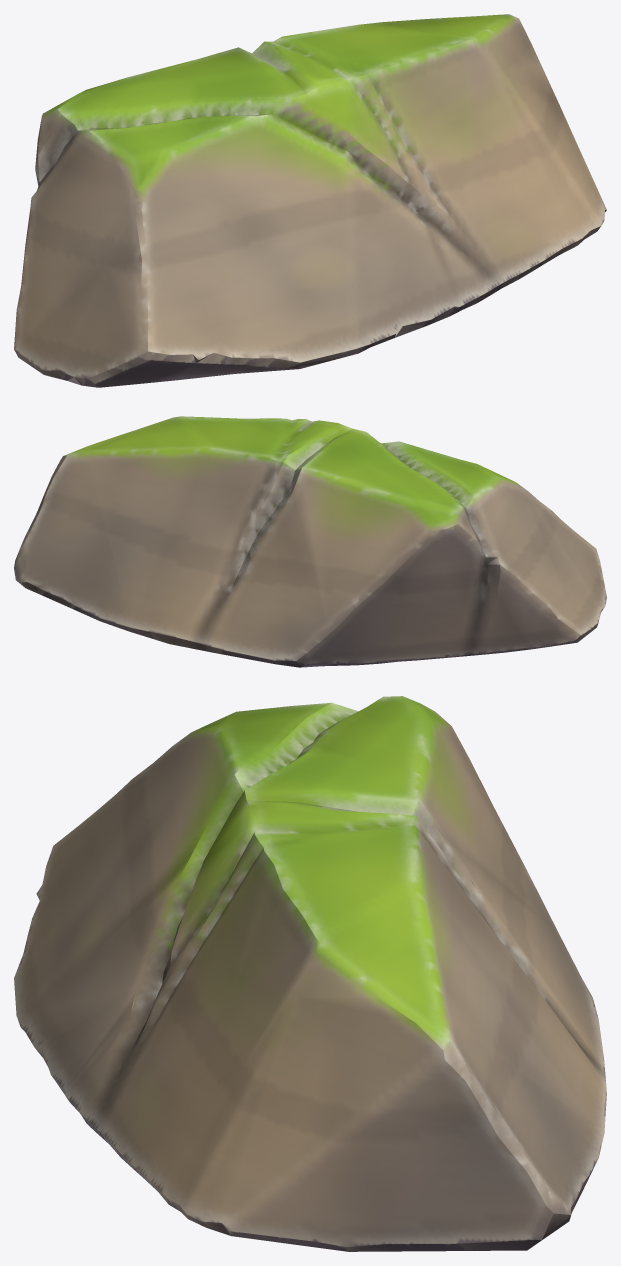
Rendered from rock_c.glb.
3 renders of one model, top to bottom at view 1: azimuth 30°, elevation 25°; view 2: azimuth 150°, elevation 25°; view 3: azimuth 270°, elevation 25°, orthographic. The views are drawn at different scales.
Parts seen in each view (by area): view 1: rock_c; view 2: rock_c; view 3: rock_c.
Part boxes in pixels (left/top/right/bottom): rock_c: left=14, top=14, right=606, bottom=387; rock_c: left=14, top=416, right=606, bottom=667; rock_c: left=14, top=696, right=606, bottom=1251.
Size of the model in its own units: 1.06 by 0.3569 by 0.6891.
1 material, 1 textured.
